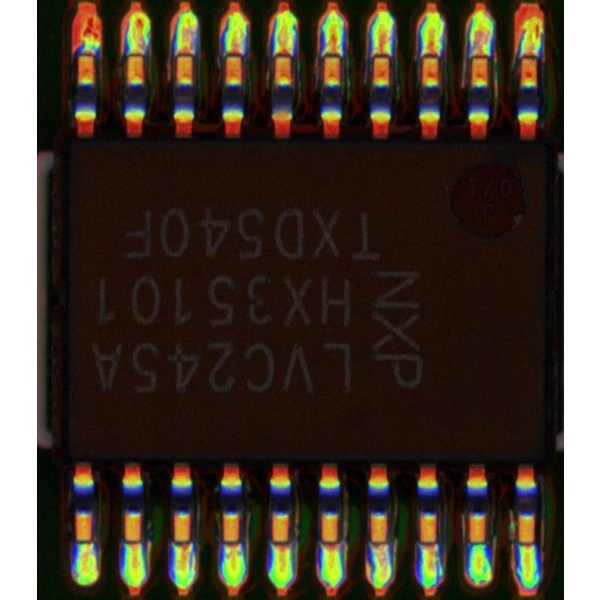Bad_podu: (324, 34, 338, 77), (275, 525, 288, 566), (472, 35, 485, 72), (224, 529, 237, 566), (176, 530, 189, 567), (323, 527, 336, 563), (226, 37, 240, 70), (276, 33, 288, 71), (424, 40, 437, 73), (130, 36, 143, 67), (523, 40, 536, 70), (127, 526, 138, 561), (519, 531, 531, 563), (423, 530, 434, 564), (376, 39, 388, 70), (178, 41, 190, 70), (373, 535, 384, 562)
